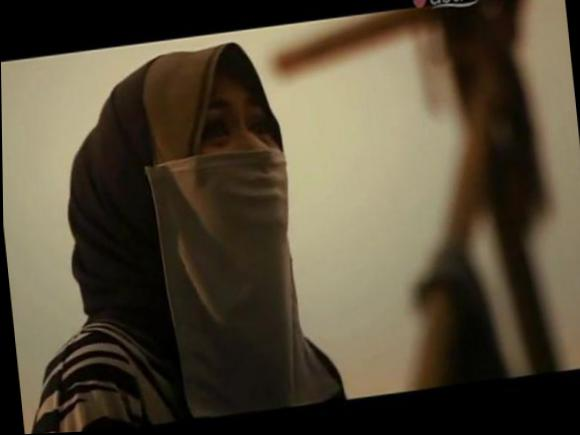WRONG: (175, 91, 294, 244)
